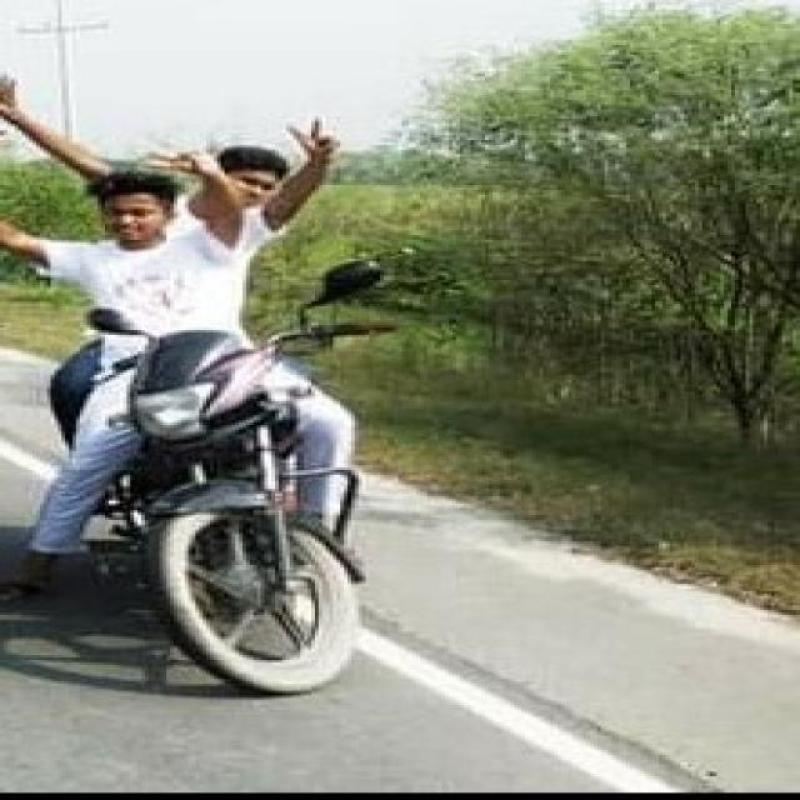nohelmet: (78, 171, 185, 259), (204, 131, 317, 210)
